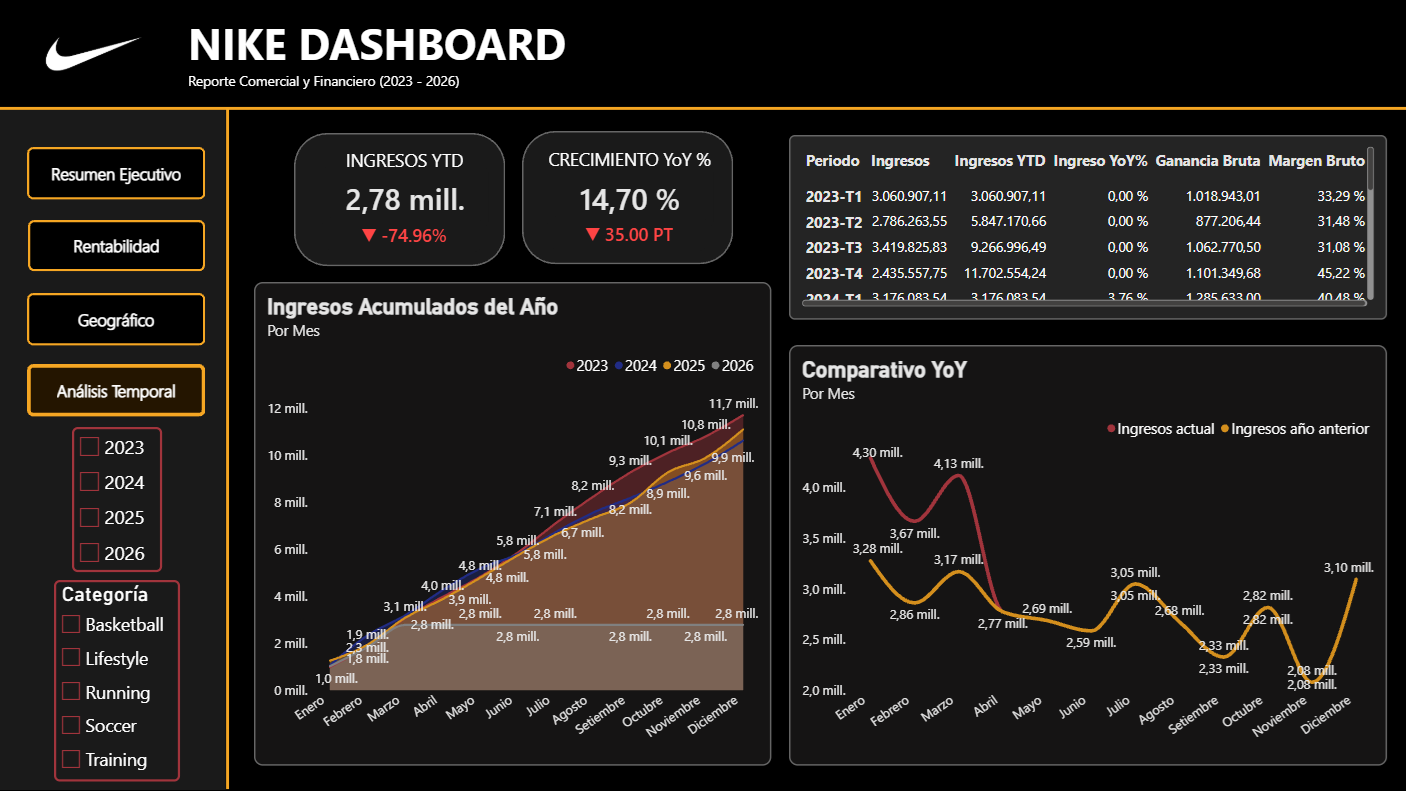

This screenshot's page, from the dashboard's own definition file:
{"tool":"powerbi","page":{"name":"Análisis Temporal","canvas":[1920,1080],"ordinal":3},"visuals":[{"type":"shape","box":[0,0,1920,150],"z":0},{"type":"shape","box":[0,143,1920,12],"z":1000},{"type":"image","box":[0,11.7,256.7,125],"z":2000},{"type":"textbox","box":[256.7,20,641.7,108.3],"z":3000},{"type":"shape","box":[0,152,308,928],"z":4000},{"type":"shape","box":[303.8,147.5,12.5,931.2],"z":5000},{"type":"lineChart","title":"Ingresos Acumulados del Año","fields":{"Category":["Dim_Tiempo.Fecha.Variación.Jerarquía de fechas.Mes"],"Series":["Dim_Tiempo.Año"],"Y":["Medidas.Ingresos_YTD"]},"box":[346,386,706,660],"z":6000},{"type":"lineChart","title":"Comparativo YoY","fields":{"Category":["Dim_Tiempo.Fecha.Variación.Jerarquía de fechas.Mes"],"Y":["Medidas.Ingresos_Totales","Medidas.INGRESO_AÑO_ANTERIOR"]},"box":[1076,472,816,574],"z":7000},{"type":"pivotTable","fields":{"Rows":["Dim_Tiempo.AñoTrimestre"],"Values":["Medidas.Ingresos_Totales","Medidas.Ingresos_YTD","Medidas.Ingreso_YoY%","Medidas.Ganancia_Total","Medidas.Ganancia_bruta"]},"box":[1076,186,816,252],"z":9000},{"type":"shape","box":[711.8,180.7,288.3,181.7],"z":10000},{"type":"shape","box":[401,182.3,288.3,181.7],"z":11000},{"type":"cardVisual","fields":{"Data":["Medidas.Ingresos_YTD"]},"box":[438.9,229.3,227.5,82.5],"z":12000},{"type":"textbox","box":[427.2,202.8,250,36],"z":13000},{"type":"cardVisual","fields":{"Data":["Medidas.Variacion_IngresosYTD_Texto"]},"box":[445.8,297,210,47.5],"z":14000},{"type":"cardVisual","fields":{"Data":["Medidas.Ingreso_YoY%"]},"box":[746.1,228.9,227.5,82.5],"z":15000},{"type":"textbox","box":[734.4,202.4,250,36],"z":16000},{"type":"cardVisual","fields":{"Data":["Medidas.Variacion_Ingreso_YoY%_Texto"]},"box":[752.9,296.6,210,47.5],"z":17000},{"type":"shape","box":[38.3,301.7,241.7,70],"z":18000},{"type":"shape","box":[36.7,401.7,243.3,71.7],"z":19000},{"type":"shape","box":[36.7,498.3,243.3,71.7],"z":20000},{"type":"shape","box":[36.7,201.7,243.3,71.7],"z":21000},{"type":"slicer","fields":{"Values":["Dim_Tiempo.Fecha.Variación.Jerarquía de fechas.Año"]},"box":[98.3,584,123.3,198],"z":21001},{"type":"slicer","fields":{"Values":["Dim_Producto.Product_Line"]},"box":[73.3,793.3,171.7,275],"z":21002}]}

Visuals, with their boxes in screenshot pixels (x1, y1, x2, y2), scaled from the page's 1920x1080 canvas onto the 1406x791 screenshot:
shape: [0,0,1405,110]
shape: [0,105,1405,114]
image: [0,9,188,100]
textbox: [188,15,658,94]
shape: [0,111,226,790]
shape: [222,108,232,790]
"Ingresos Acumulados del Año" lineChart: [253,283,770,766]
"Comparativo YoY" lineChart: [788,346,1385,766]
pivotTable - Dim_Tiempo.AñoTrimestre x Medidas.Ingresos_Totales: [788,136,1385,321]
shape: [521,132,732,265]
shape: [294,134,505,267]
cardVisual - Medidas.Ingresos_YTD: [321,168,488,228]
textbox: [313,149,496,175]
cardVisual - Medidas.Variacion_IngresosYTD_Texto: [326,218,480,252]
cardVisual - Medidas.Ingreso_YoY%: [546,168,713,228]
textbox: [538,148,721,175]
cardVisual - Medidas.Variacion_Ingreso_YoY%_Texto: [551,217,705,252]
shape: [28,221,205,272]
shape: [27,294,205,347]
shape: [27,365,205,417]
shape: [27,148,205,200]
slicer - Dim_Tiempo.Fecha.Variación.Jerarquía de fechas.Año: [72,428,162,573]
slicer - Dim_Producto.Product_Line: [54,581,179,782]
